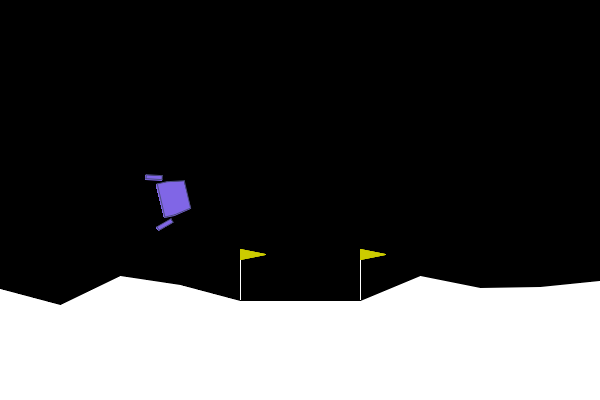lander: (143, 165, 196, 233)
